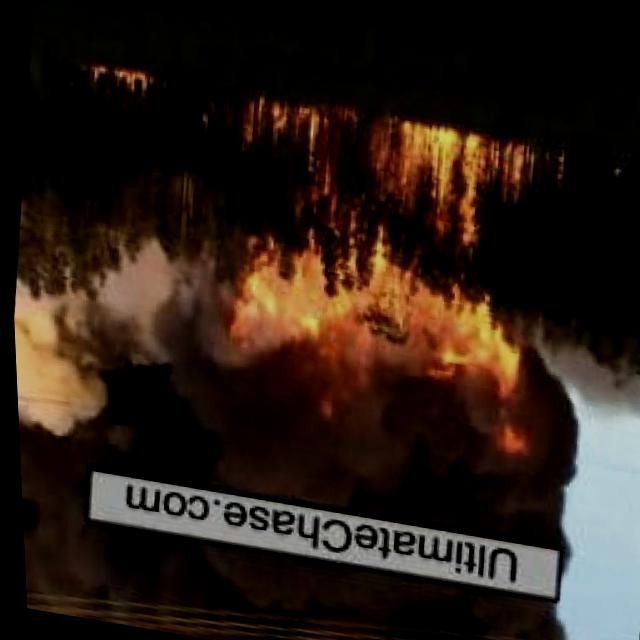Fire: (202, 87, 558, 457), (77, 58, 151, 102)
Smoke: (13, 386, 570, 540), (18, 513, 565, 640)
